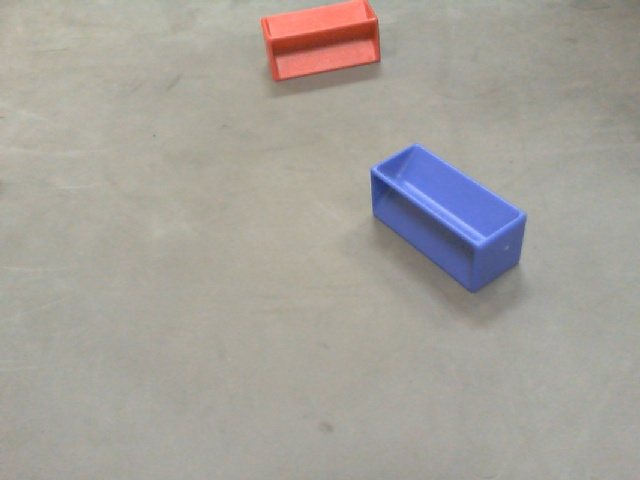BlueSample: (366, 142, 530, 294)
RedSample: (259, 1, 381, 83)
